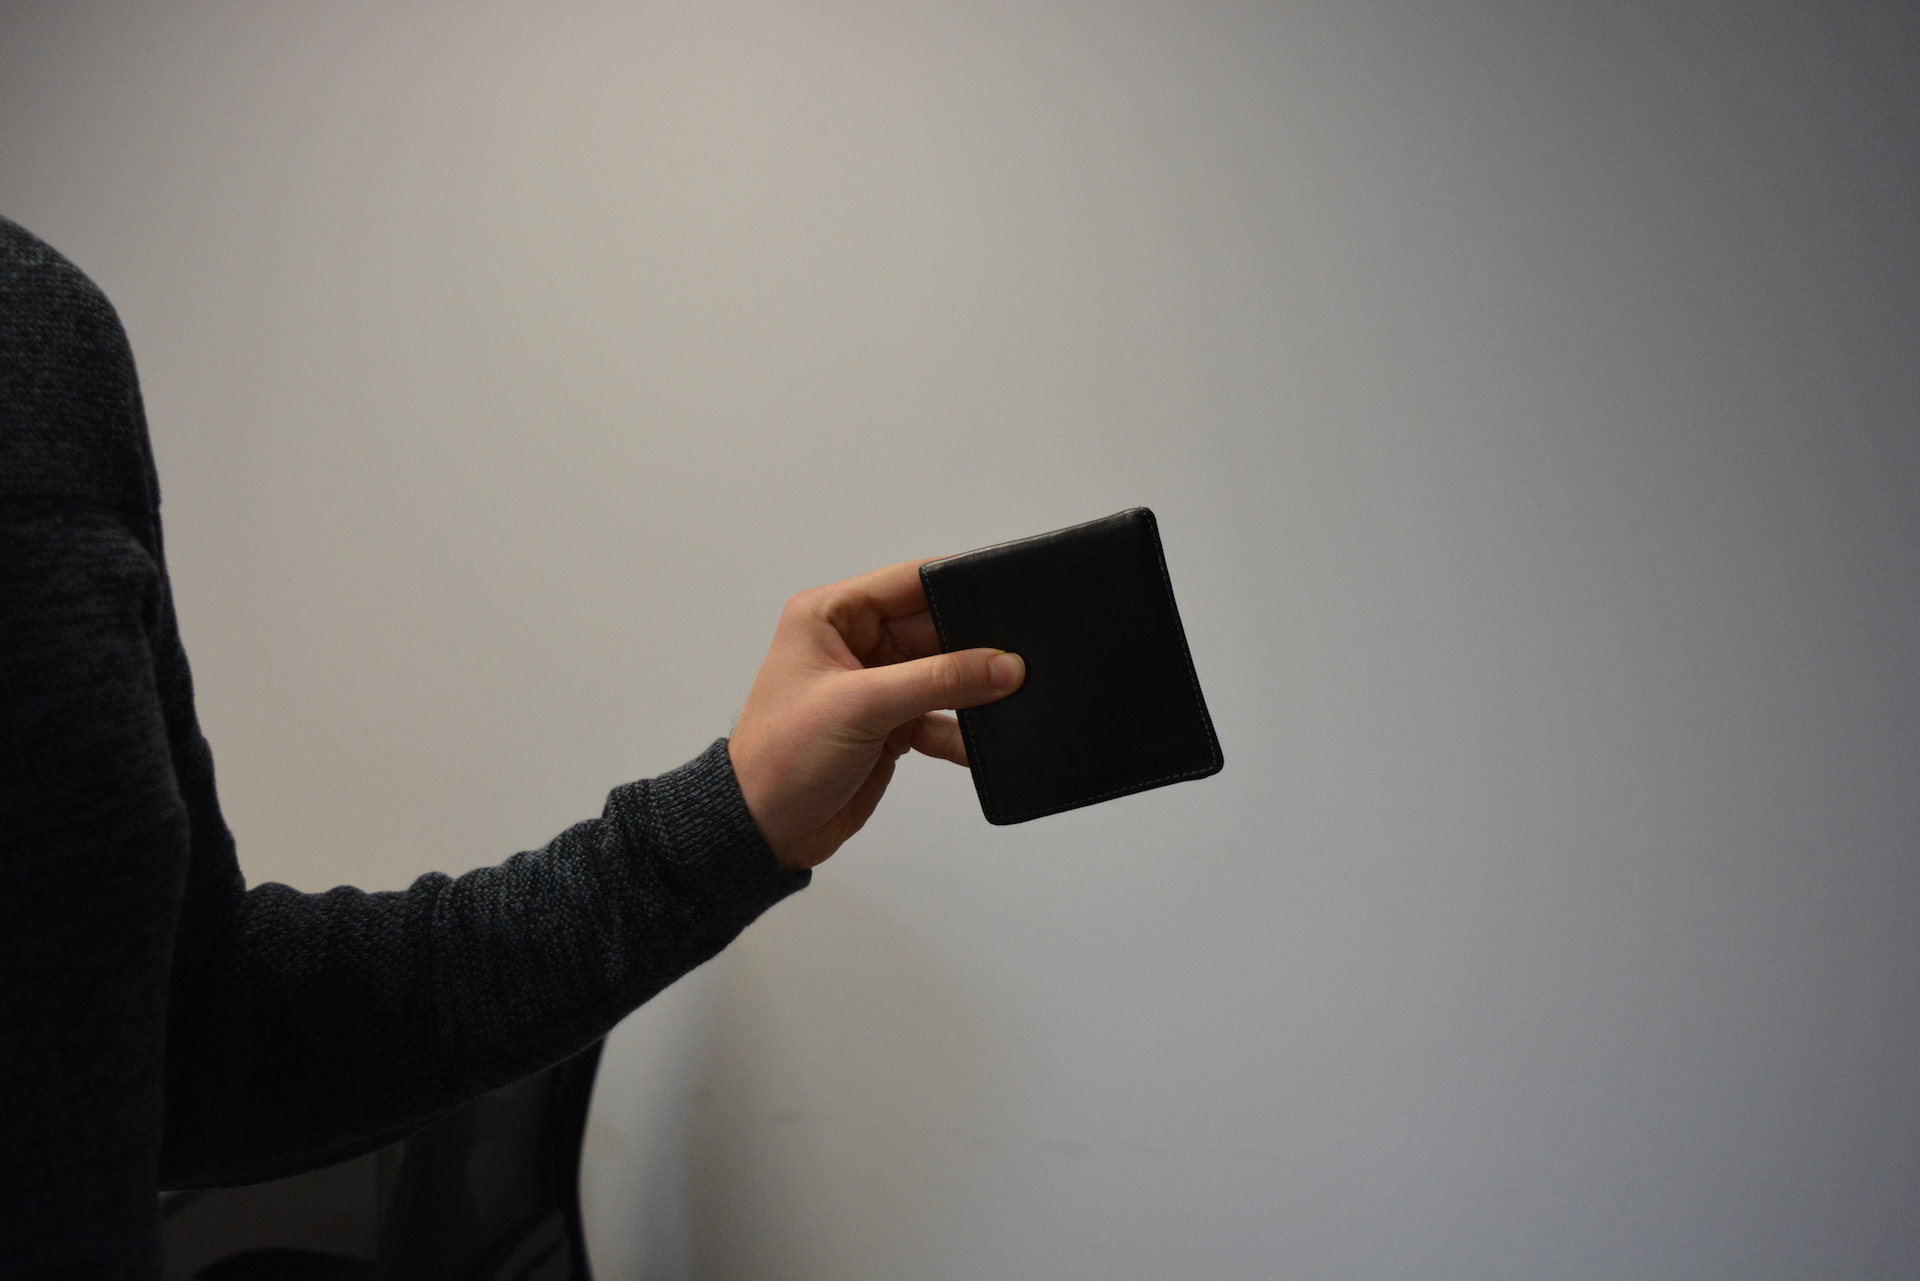monedero: (916, 505, 1227, 826)
